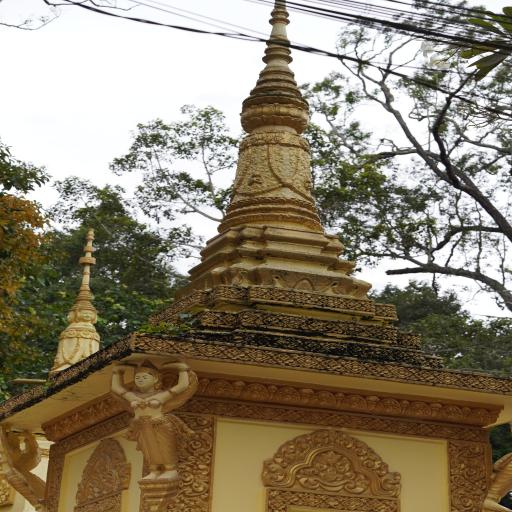than: (99, 355, 217, 486), (0, 424, 55, 509), (482, 432, 512, 512)
